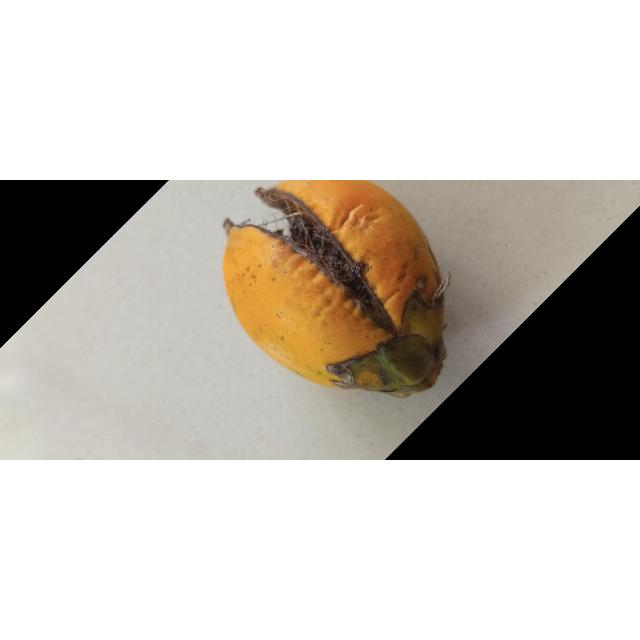damaged: (221, 180, 447, 399)
